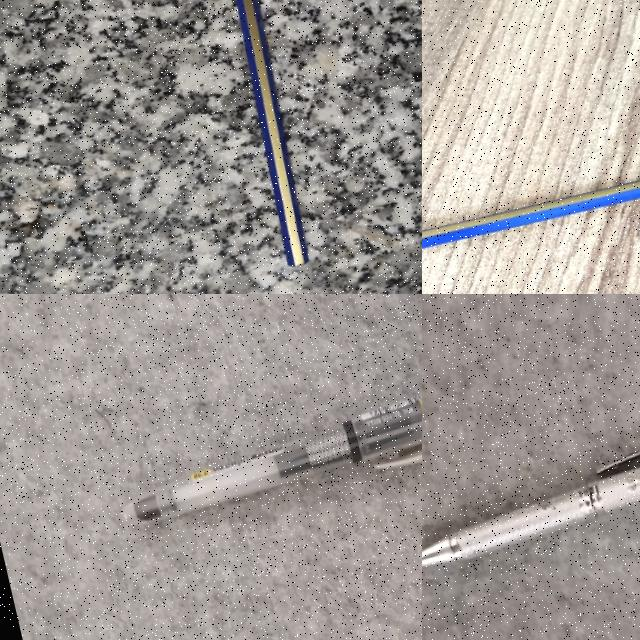pen: (122, 395, 421, 524), (422, 181, 639, 249)
pencil: (236, 0, 307, 266)
signature pen: (422, 453, 639, 566)
